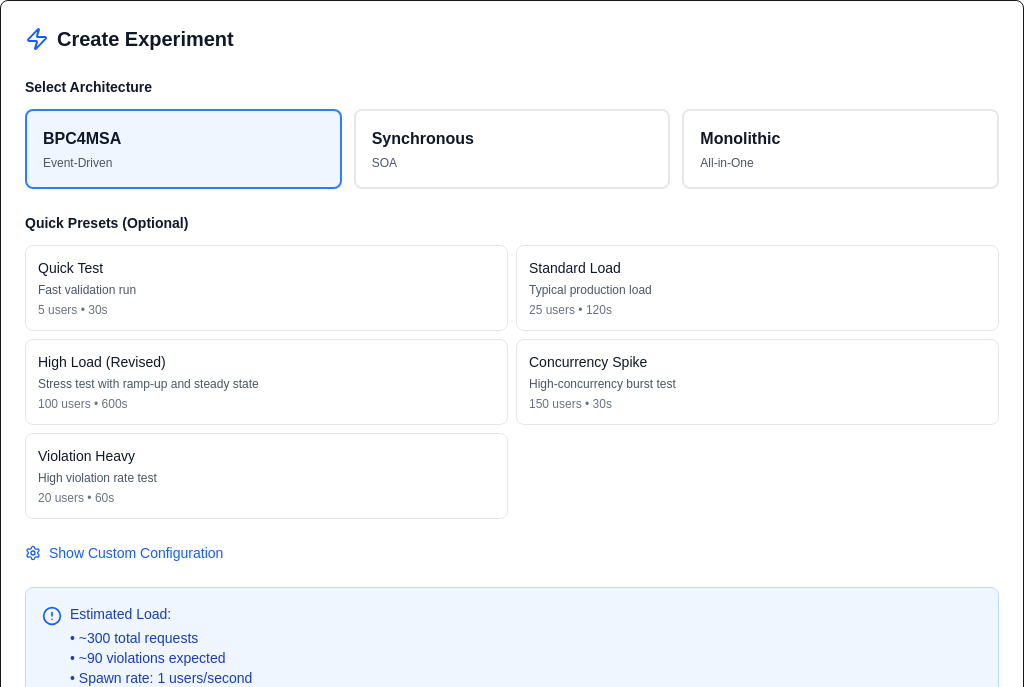
Test: ExperimentControlAdvanced - New Presets › Resource Constraint Toggle › should show warning when resource constrained is enabled
Click the button "Show Custom Configuration": (124, 553) [25,543,223,563]
(page scrolled)
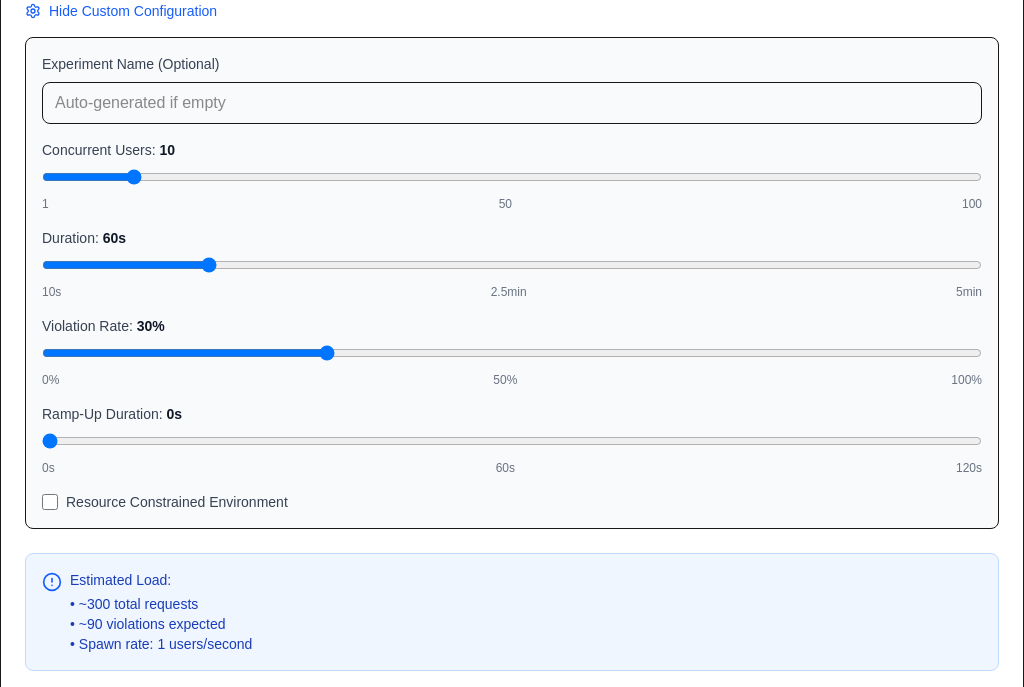
Click the checkbox labelled "Resource Constrained Environment": (50, 502) [42,494,58,510]
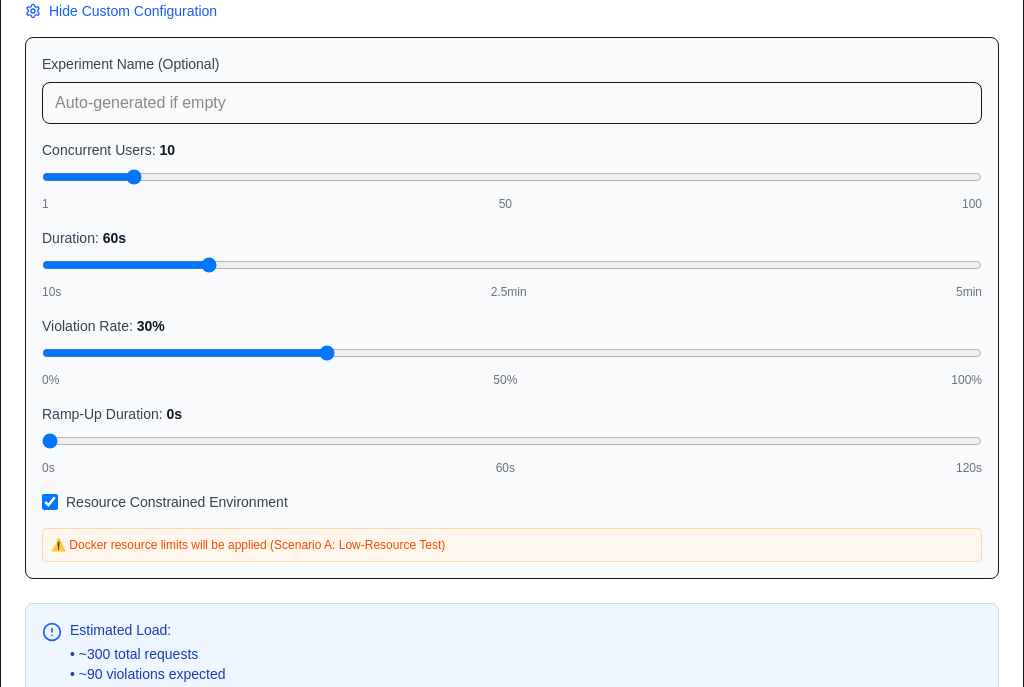
Check: the text "Docker resource limits will be applied" is shown, box [51,538,445,552]
